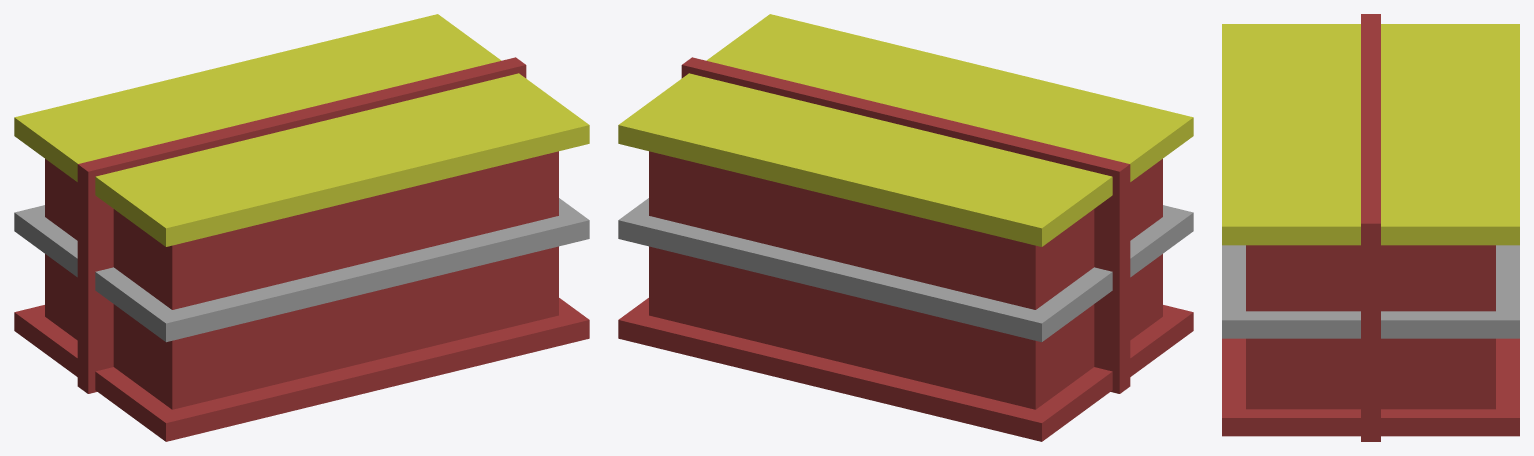
Rendered from chest.fbx.
The picture shows the model from 3 angles, left to right: view 1: azimuth 30°, elevation 25°; view 2: azimuth 150°, elevation 25°; view 3: azimuth 270°, elevation 25°; orthographic projection.
Visible parts, largest first — view 1: pasted__pCube2, pCube1, pasted__pasted__pCube2, pasted__pasted__pCube2_ncl1_1, pCube2; view 2: pasted__pCube2, pCube1, pasted__pasted__pCube2, pasted__pasted__pCube2_ncl1_1, pCube2; view 3: pasted__pCube2, pCube1, pasted__pasted__pCube2, pasted__pasted__pCube2_ncl1_1, pCube2.
Part boxes in pixels (<box>): pasted__pCube2: <box>14,14,589,246</box>; pCube1: <box>45,151,558,409</box>; pasted__pasted__pCube2: <box>14,298,589,441</box>; pasted__pasted__pCube2_ncl1_1: <box>14,198,589,342</box>; pCube2: <box>77,57,526,393</box>; pasted__pCube2: <box>618,14,1193,246</box>; pCube1: <box>649,151,1162,409</box>; pasted__pasted__pCube2: <box>618,298,1193,441</box>; pasted__pasted__pCube2_ncl1_1: <box>618,198,1193,342</box>; pCube2: <box>681,57,1130,393</box>; pasted__pCube2: <box>1222,24,1519,245</box>; pCube1: <box>1246,245,1495,409</box>; pasted__pasted__pCube2: <box>1222,338,1519,436</box>; pasted__pasted__pCube2_ncl1_1: <box>1222,245,1519,338</box>; pCube2: <box>1361,14,1380,441</box>.
Size of the model in its own units: 11.14 by 5.4 by 6.68.
